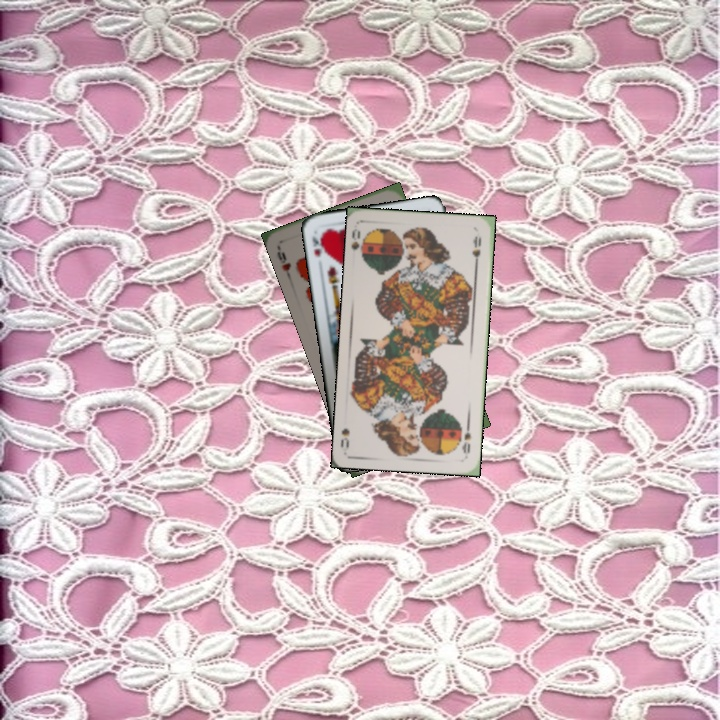H9: (273, 243, 294, 282)
HK: (308, 229, 328, 259)
SO: (348, 224, 369, 264), (458, 418, 473, 456)
